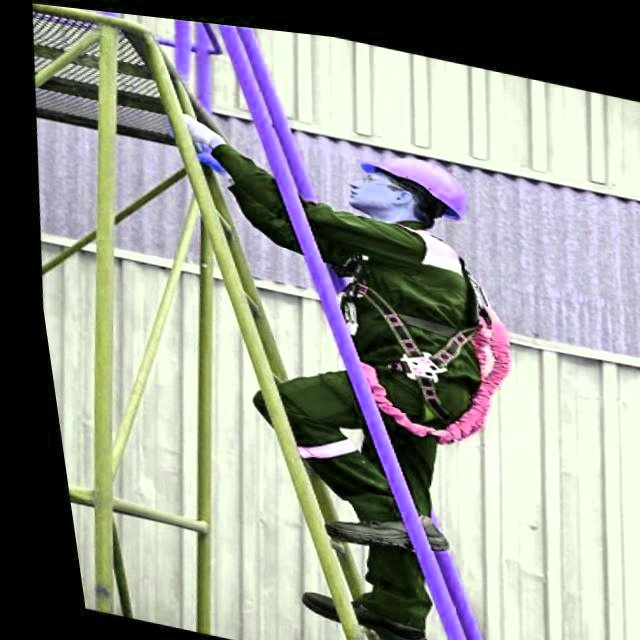safety belt: (357, 222, 523, 459)
